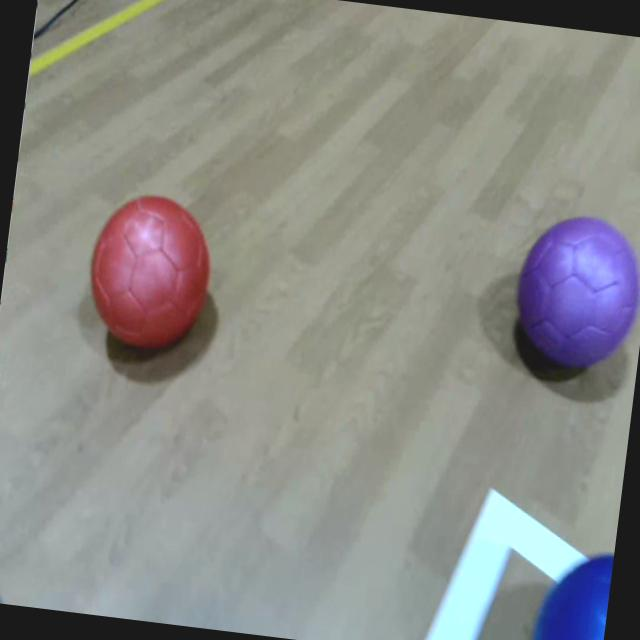blue_ball: (529, 543, 614, 640)
purple_ball: (512, 208, 640, 373)
red_ball: (80, 190, 220, 355)
